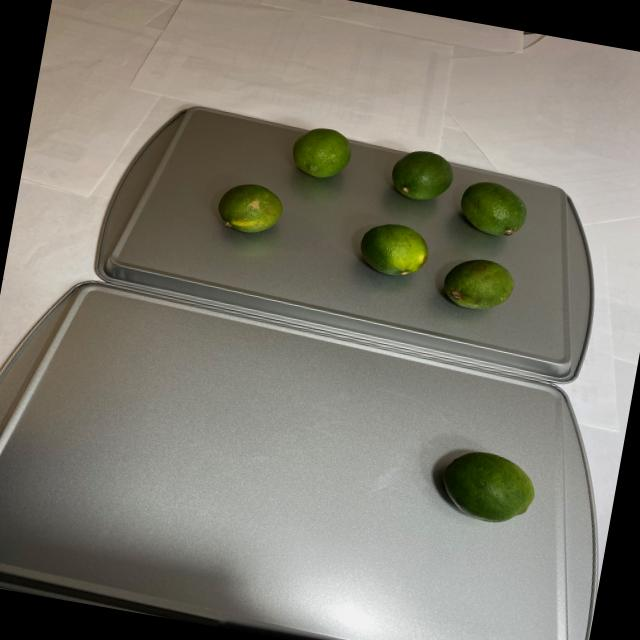lemon: (194, 116, 554, 322), (432, 444, 540, 532)
